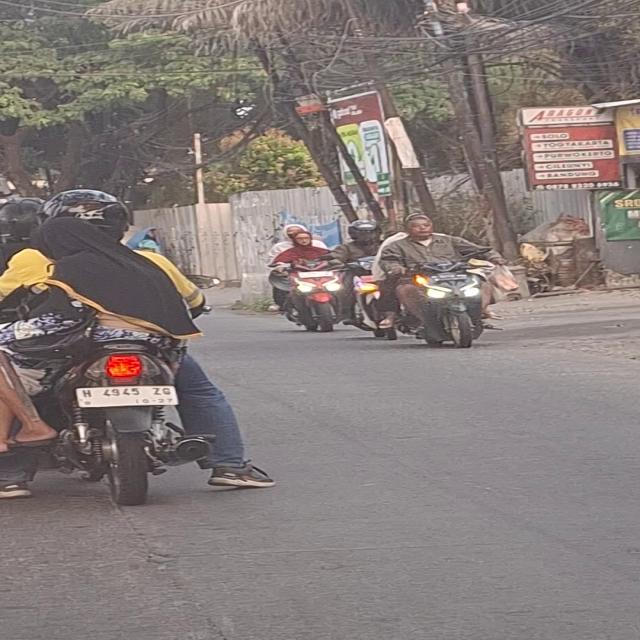WithHelmet: (0, 189, 276, 498), (317, 219, 402, 330), (0, 197, 48, 274)
WithoutHelmet: (388, 215, 521, 326), (262, 223, 342, 333)
